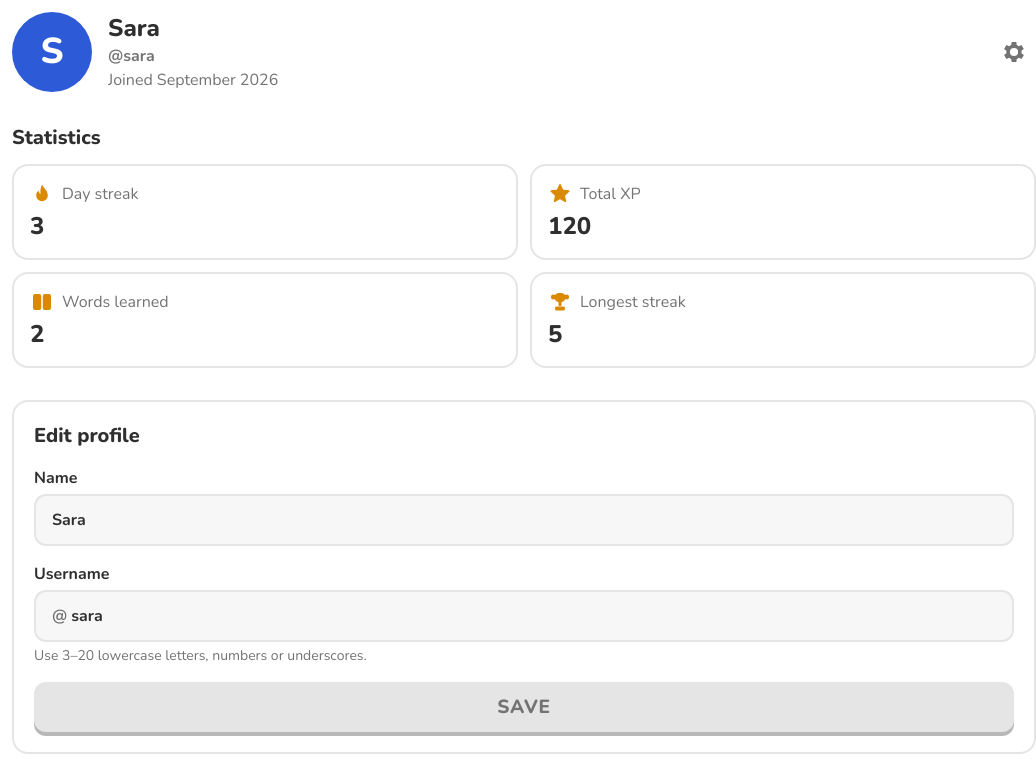
ProfileScreen › says "That username is taken" on a conflict
The width and height of the screenshot is (1036, 780).
Step 1. Replace the text in the field labelled "Username" with "taken_one" → (540,616), box x1=67 y1=592 x2=1012 y2=640
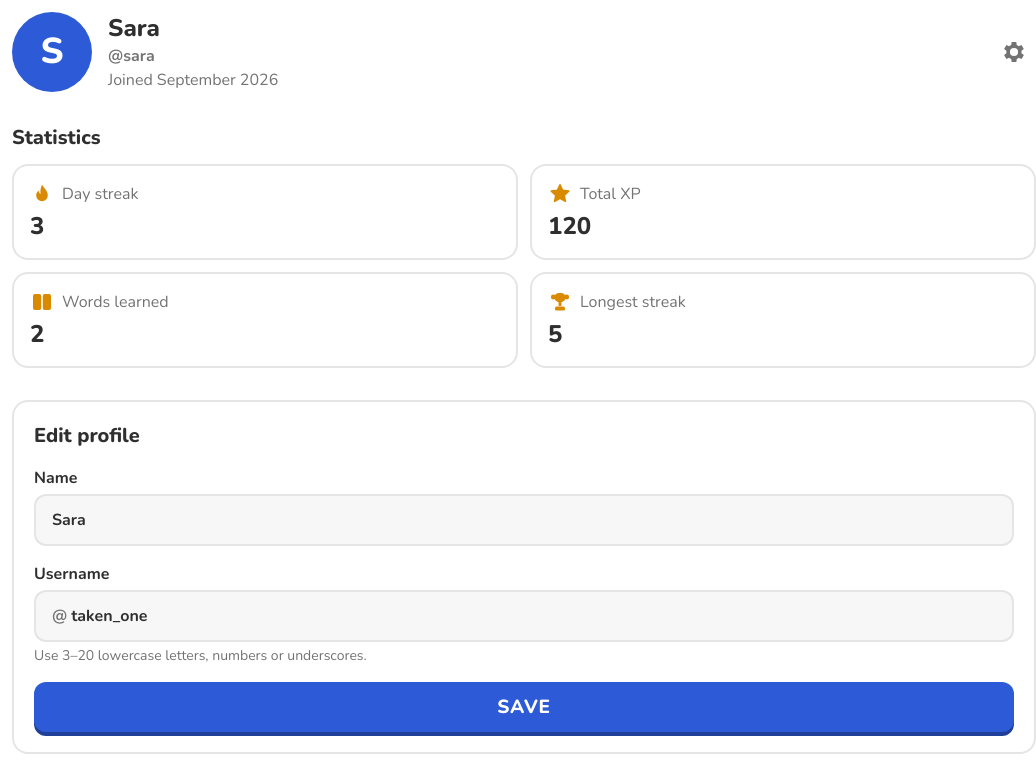
Step 2. Click the button "Save" → (524,707), box x1=34 y1=682 x2=1014 y2=732
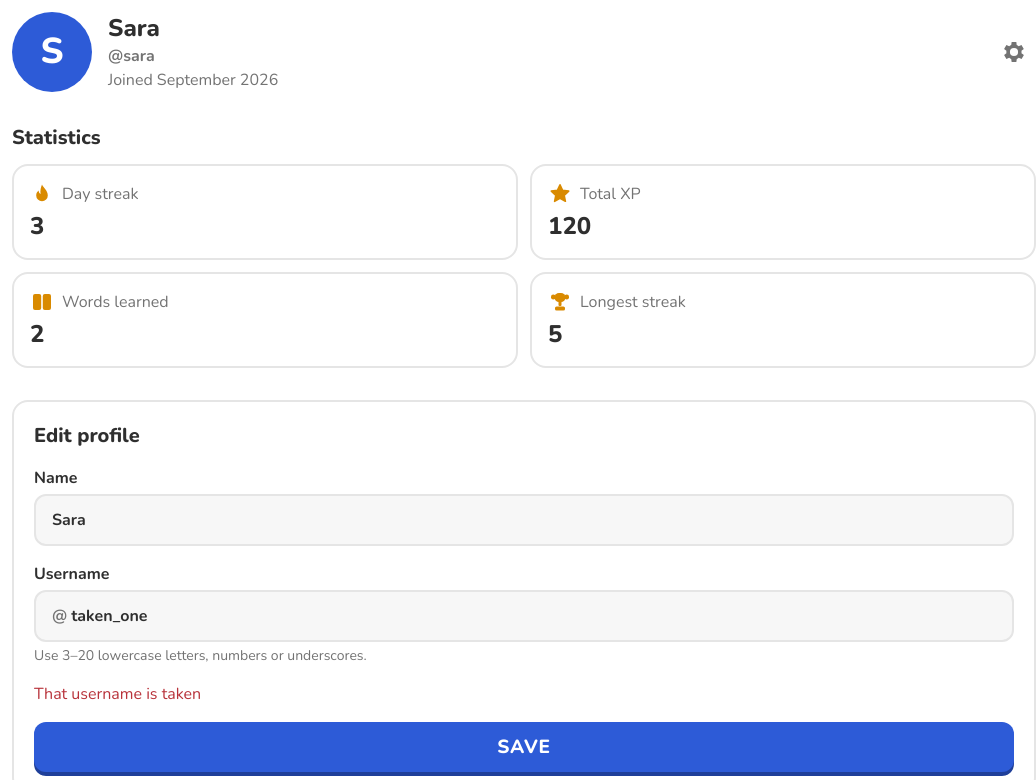
Now the message reads "That username is taken", box x1=34 y1=683 x2=201 y2=705
